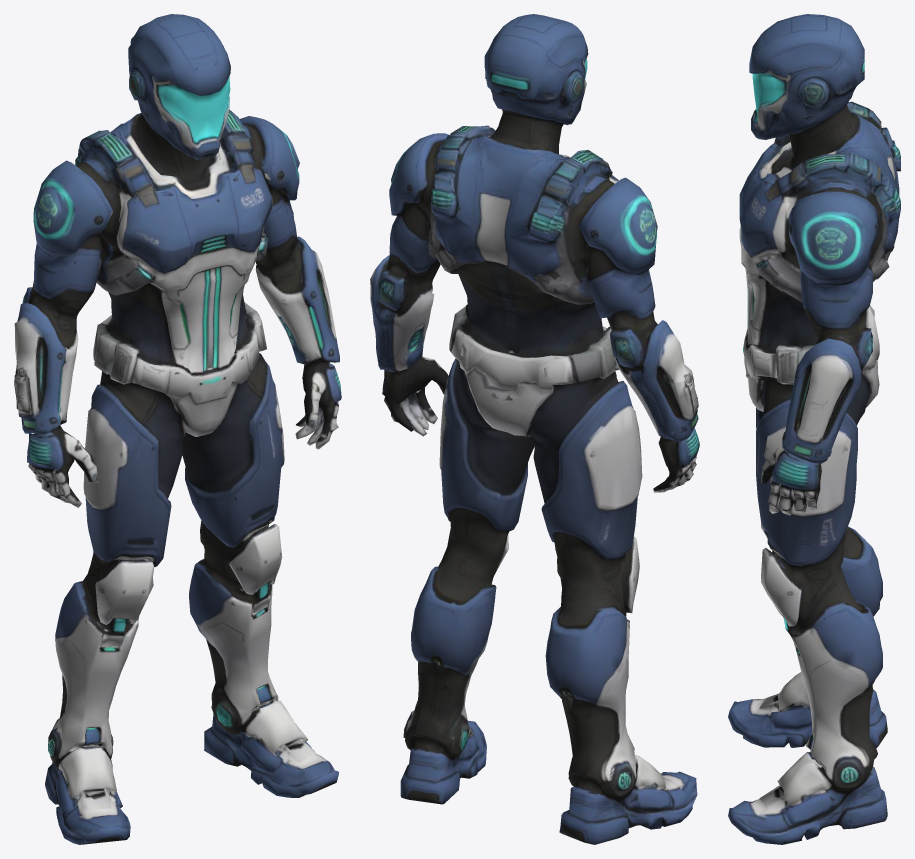
The model's file is Player3D 1.glb.
3 renders of one model, left to right at view 1: azimuth 30°, elevation 25°; view 2: azimuth 150°, elevation 25°; view 3: azimuth 270°, elevation 25°, orthographic. The views are drawn at different scales.
Visible parts, largest first — view 1: tripo_node_37cba1b4-8981-4466-970c-23d317de2c5b; view 2: tripo_node_37cba1b4-8981-4466-970c-23d317de2c5b; view 3: tripo_node_37cba1b4-8981-4466-970c-23d317de2c5b.
Boxes of the visible parts, x1,y1,x2,y2 form: tripo_node_37cba1b4-8981-4466-970c-23d317de2c5b: [14, 14, 341, 844]; tripo_node_37cba1b4-8981-4466-970c-23d317de2c5b: [370, 14, 699, 844]; tripo_node_37cba1b4-8981-4466-970c-23d317de2c5b: [728, 14, 900, 844].
Size of the model in its own units: 0.4247 by 0.998 by 0.2055.
Materials: 1 (1 with a texture image).
